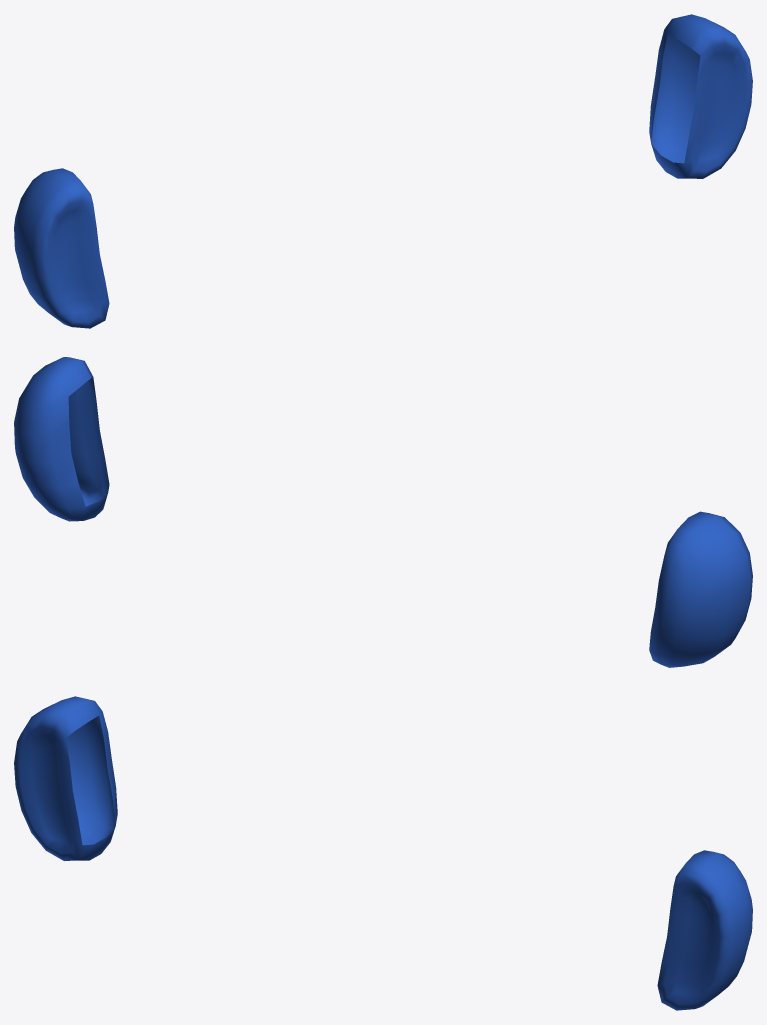
File: Ears_03.glb
3 renders of one model, top to bottom at view 1: azimuth 30°, elevation 25°; view 2: azimuth 150°, elevation 25°; view 3: azimuth 330°, elevation 25°, orthographic.
Visible parts, largest first — view 1: Ears_03; view 2: Ears_03; view 3: Ears_03.
Part boxes in pixels (x1,y1,x2,y2): Ears_03: (14, 14, 752, 328); Ears_03: (14, 357, 752, 667); Ears_03: (14, 696, 752, 1010).
Size of the model in its own units: 0.6554 by 0.1295 by 0.076.
1 material, 1 textured.
